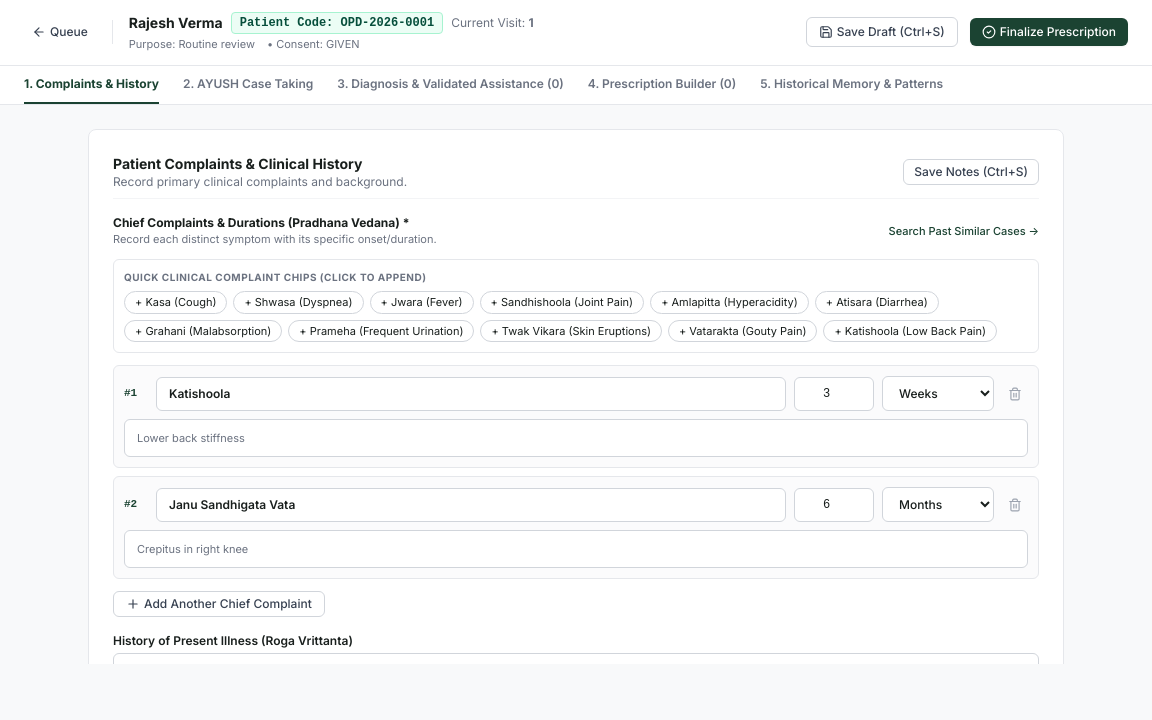
it: Repeatable Chief Complaints UI in ConsultationWorkspace › appends a suggestion chip when clicked
This screenshot has width=1152, height=720.
Click the button "+ Jwara (Fever)" at (422, 302), box [370,291,474,314]
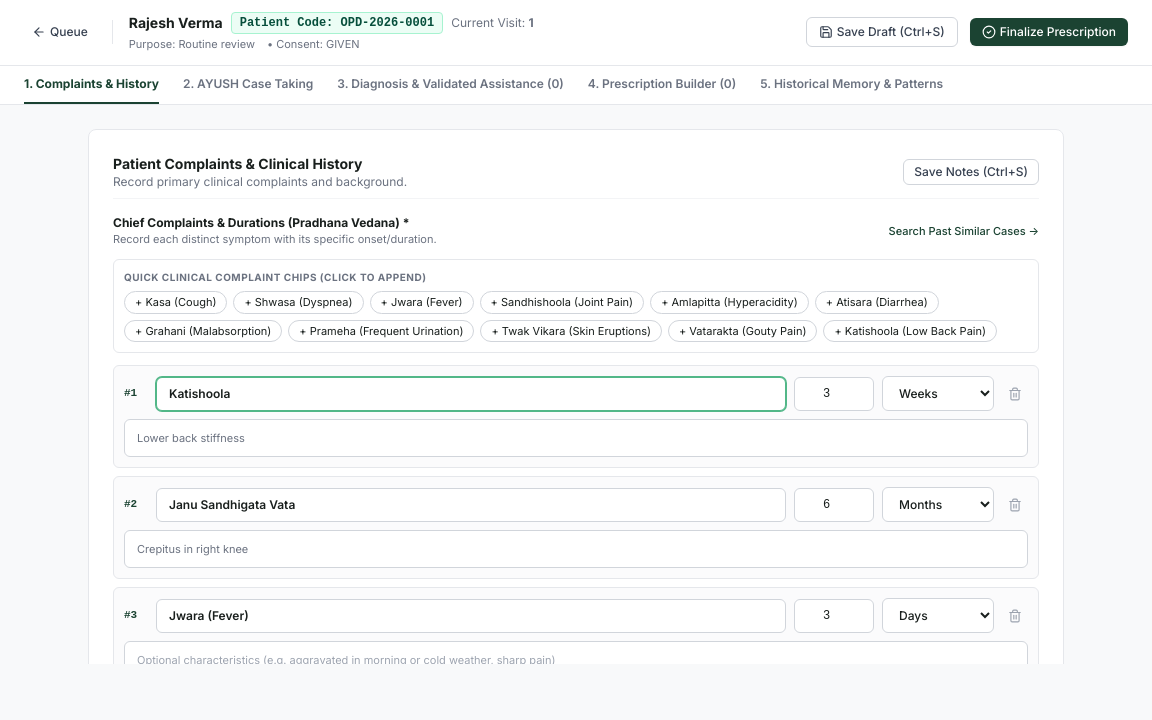
Result: the 5th field showing "Jwara (Fever)" is shown at [156,598,786,632]
